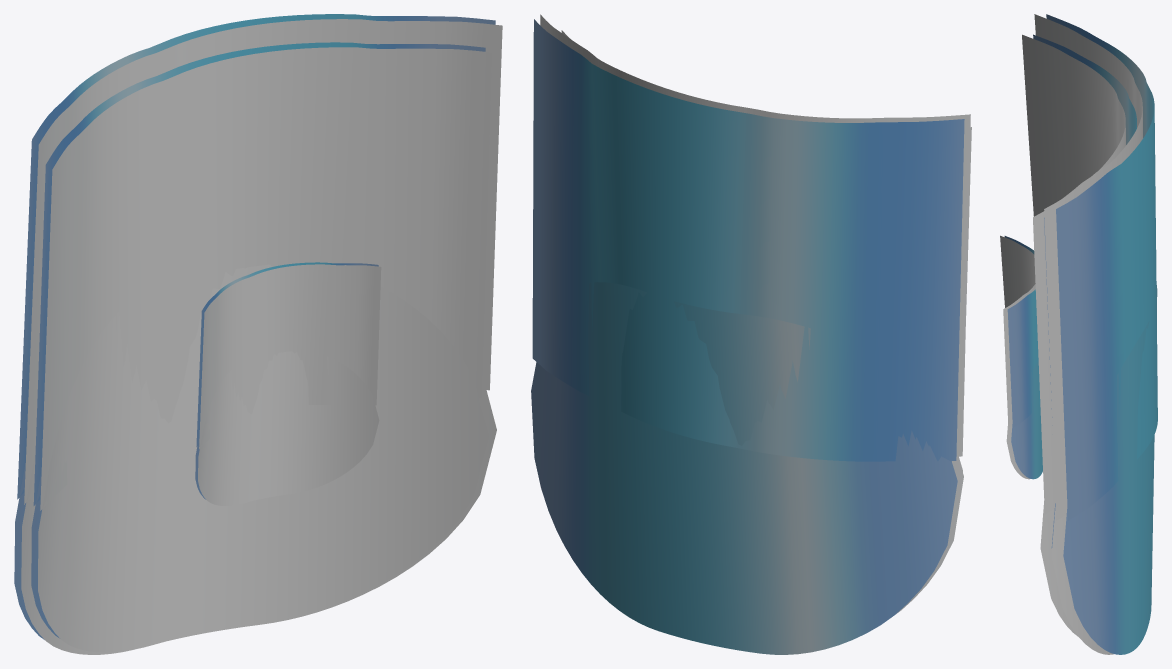
Rendered from Fx_shielddisappear2.fbx.
3 views of the same model, side by side, from view 1: azimuth 30°, elevation 25°; view 2: azimuth 150°, elevation 25°; view 3: azimuth 270°, elevation 25° (orthographic). The views are drawn at different scales.
Parts seen in each view (by area): view 1: ShieldLeave; view 2: ShieldLeave; view 3: ShieldLeave.
Part boxes in pixels (x1,y1,x2,y2): ShieldLeave: (14,14,502,654); ShieldLeave: (531,14,971,654); ShieldLeave: (1000,14,1157,654).
Size of the model in its own units: 13.35 by 16.08 by 4.51.
